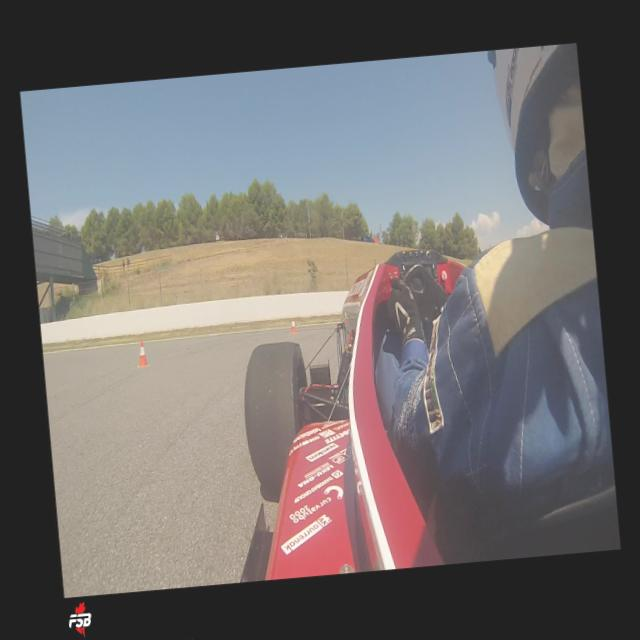orange_cone: (135, 338, 149, 368), (289, 316, 297, 334)
